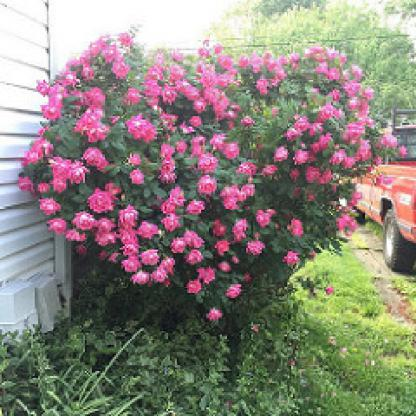Rose-Mawar: (20, 24, 379, 310)
